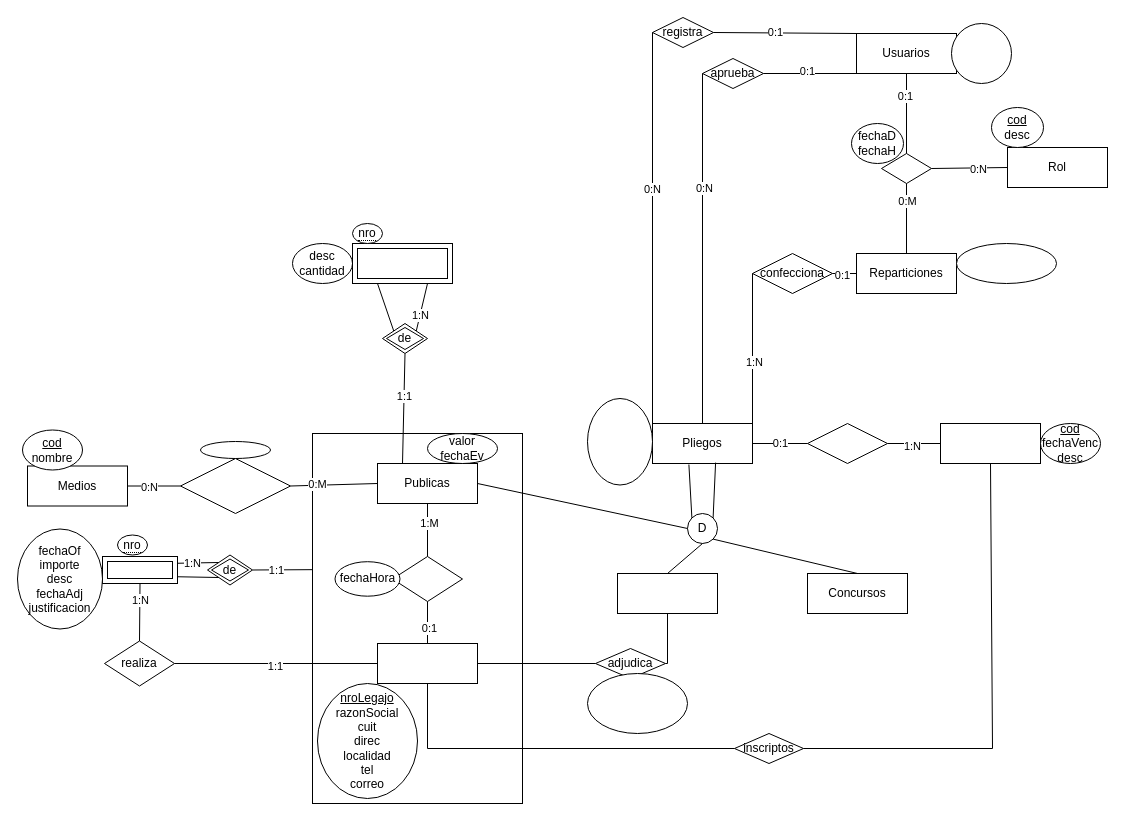
The diagram is 1125 pixels wide and 821 high, and some of its shapes have lost their labels. Each missing label, with the centre of its shape:
cod nombre apellido mail: [981,53]
cod nombreRepar correo: [1006,263]
compran: [427,579]
fechaAdj justificacion importe formaPago: [637,703]
fechaPubli: [235,449]
Items: [402,263]
nro fechaReg desc fojas tipoCont: [619,441]
ocupa: [906,168]
Ofertas: [140,570]
pertenecen: [847,443]
Privadas: [667,593]
Proveedores: [427,663]
RubrosAFIP: [990,443]
se_publica_en: [235,486]
